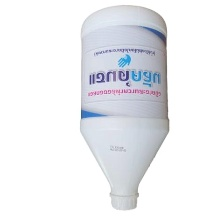cleaning_solution: (79, 3, 170, 214)
